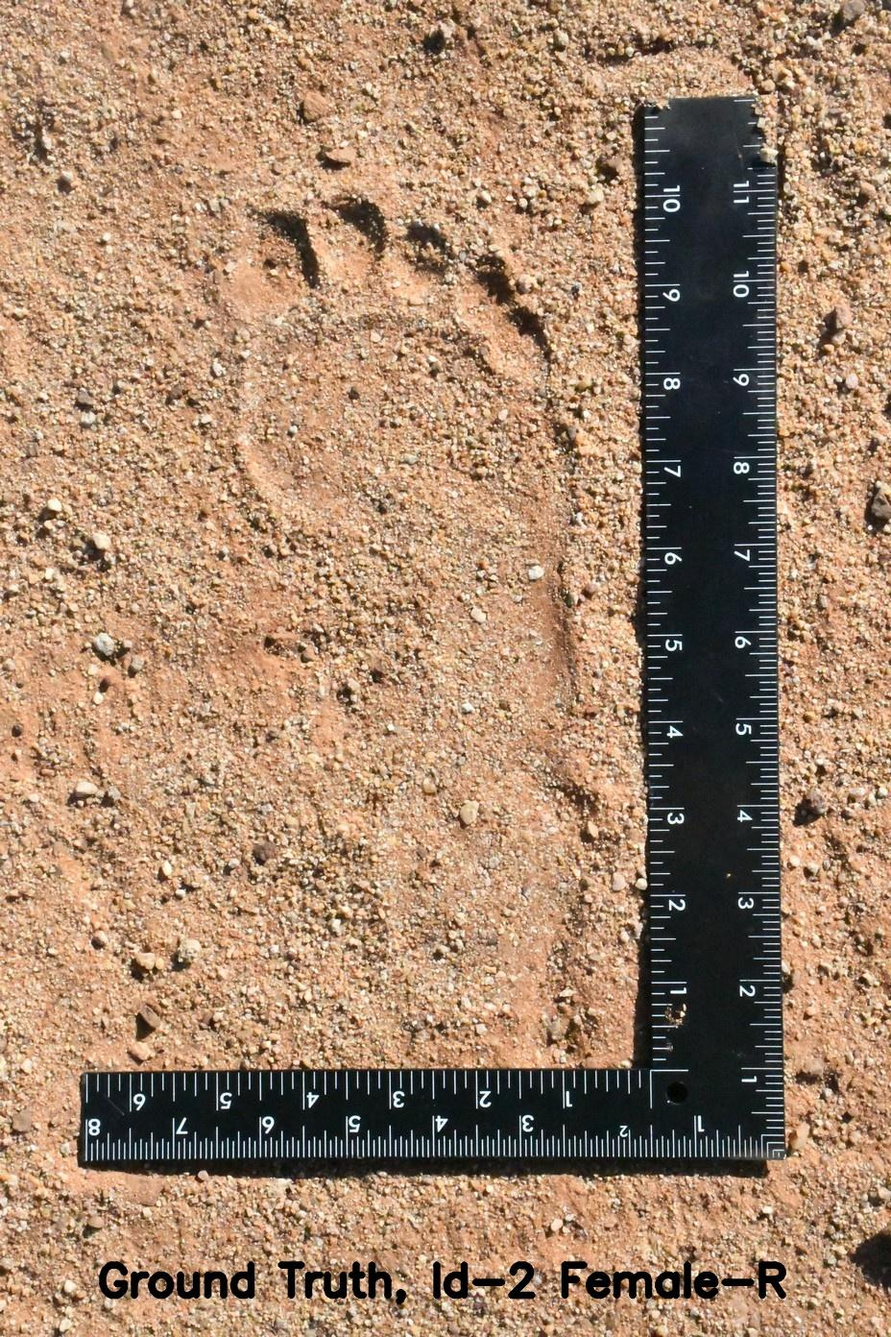human_footprint: (205, 154, 621, 1034)
